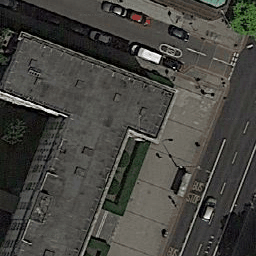car: (130, 42, 162, 65), (200, 195, 218, 225), (101, 1, 128, 18), (167, 23, 190, 42), (89, 28, 111, 47), (129, 10, 151, 28), (69, 21, 90, 38), (39, 11, 62, 26), (163, 56, 183, 73), (112, 38, 132, 52)
